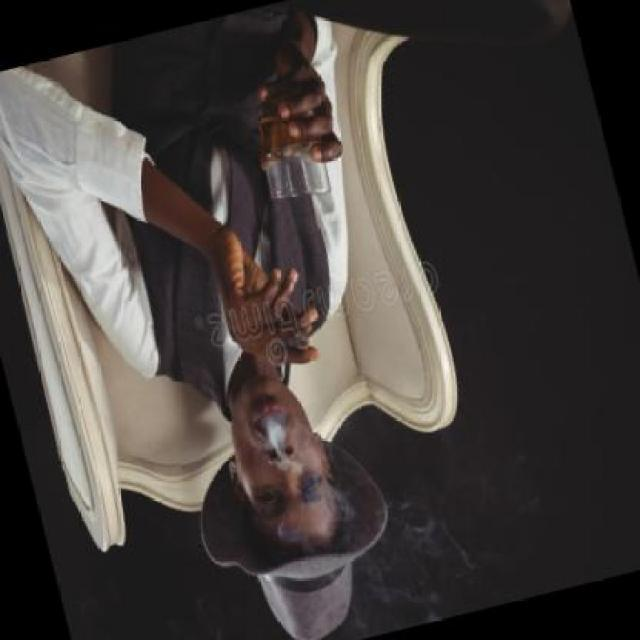smoke: (273, 357, 295, 388)
